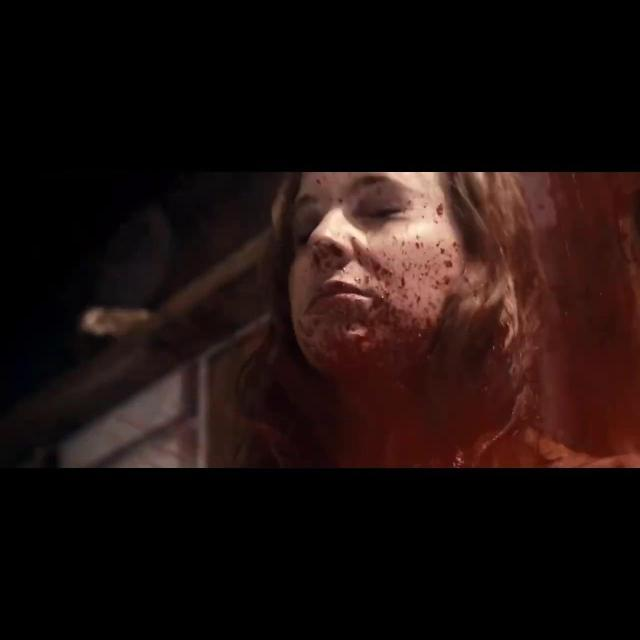blood: (290, 172, 640, 470)
